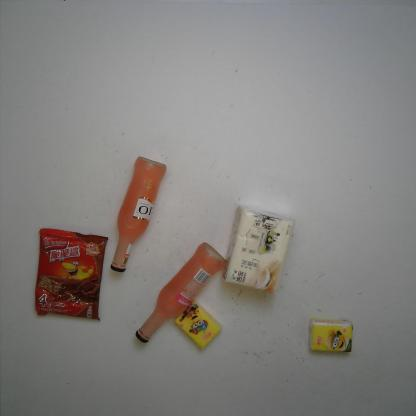Alcohol: (134, 240, 226, 344), (108, 154, 169, 273)
Dessert: (34, 227, 109, 321)
Tissue: (219, 203, 295, 295), (173, 299, 222, 350), (308, 318, 354, 353)
